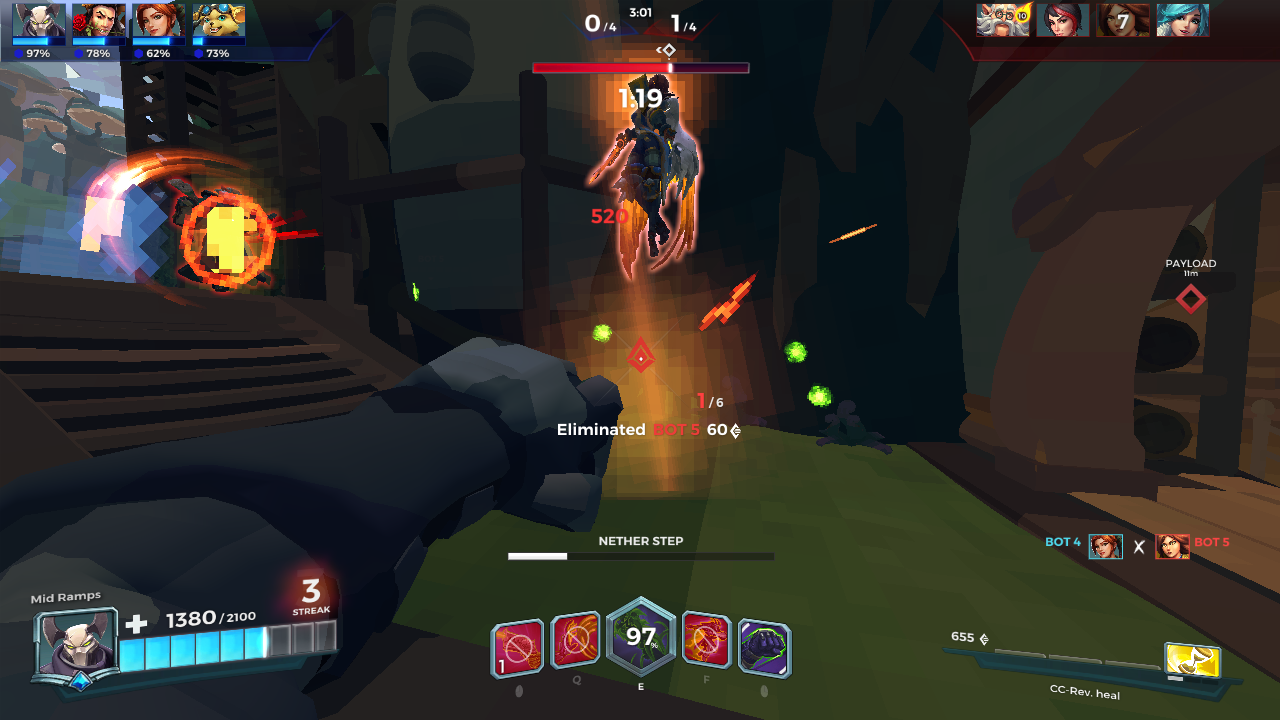model: (582, 59, 704, 287), (164, 182, 277, 295)
